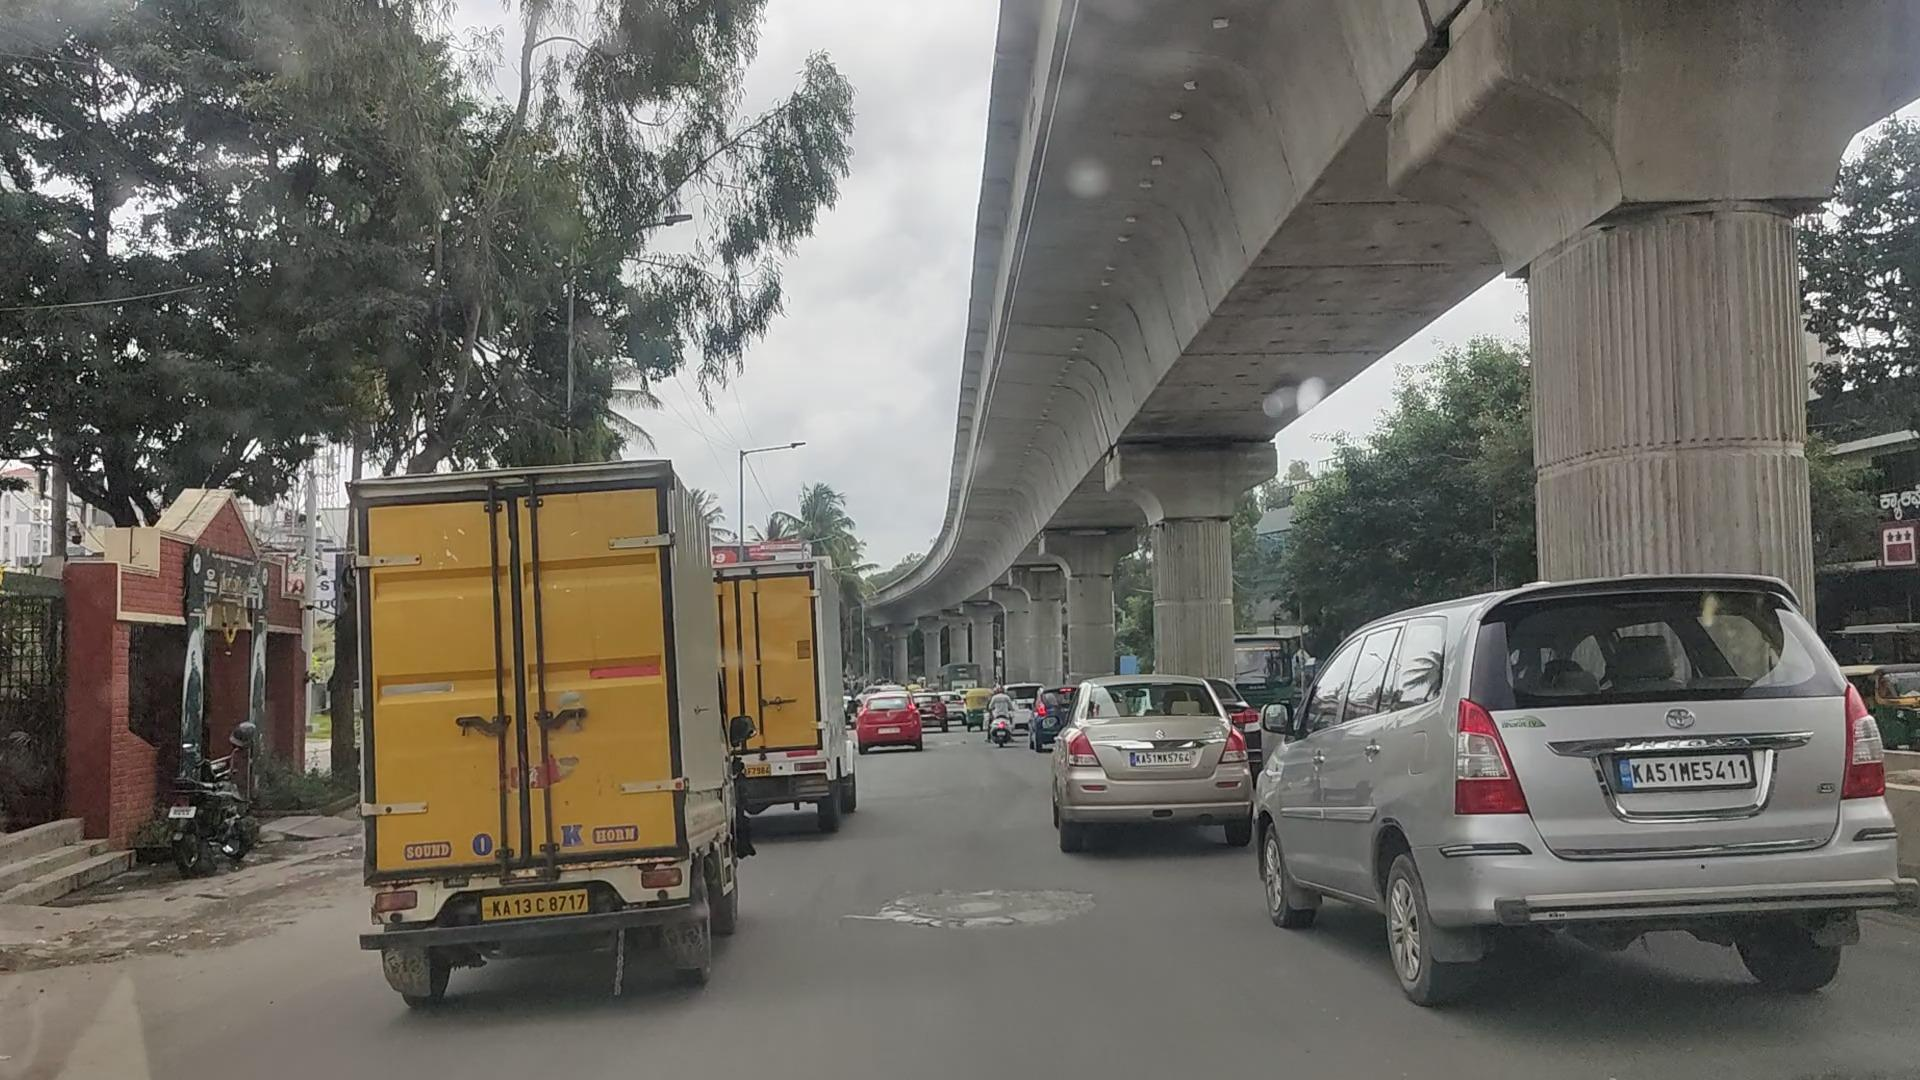HMV: (348, 476, 744, 976)
LMV: (1262, 580, 1865, 1007), (1048, 673, 1244, 845), (864, 698, 922, 749)
RoadDamages: (860, 874, 1105, 945)
